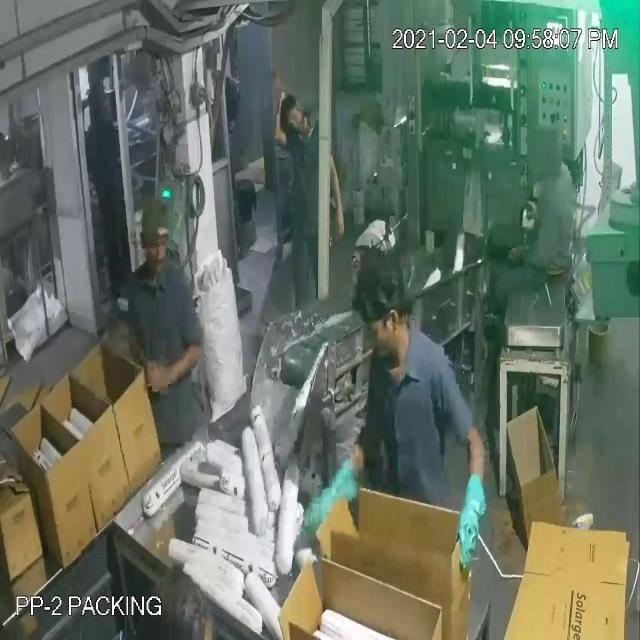No_Gloves: (30, 79, 471, 502)
